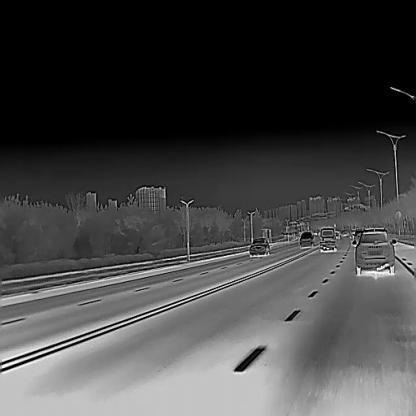car: (351, 227, 396, 274), (319, 227, 337, 252), (249, 237, 269, 256), (299, 231, 314, 247), (354, 229, 362, 241), (349, 229, 354, 238), (335, 231, 340, 239), (342, 231, 348, 236)
